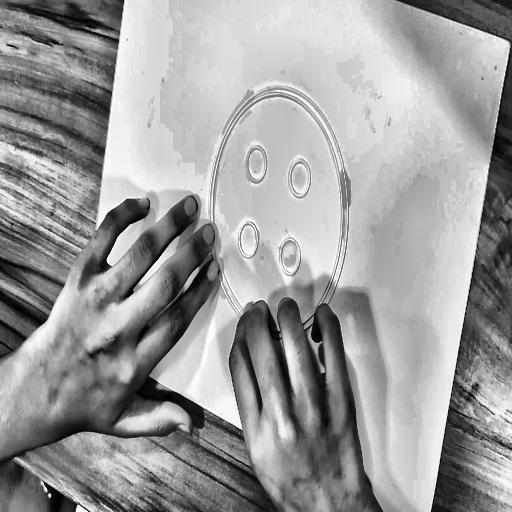bottom_left: (87, 334, 94, 345)
button: (180, 50, 380, 384)
top_right: (507, 40, 512, 51)
